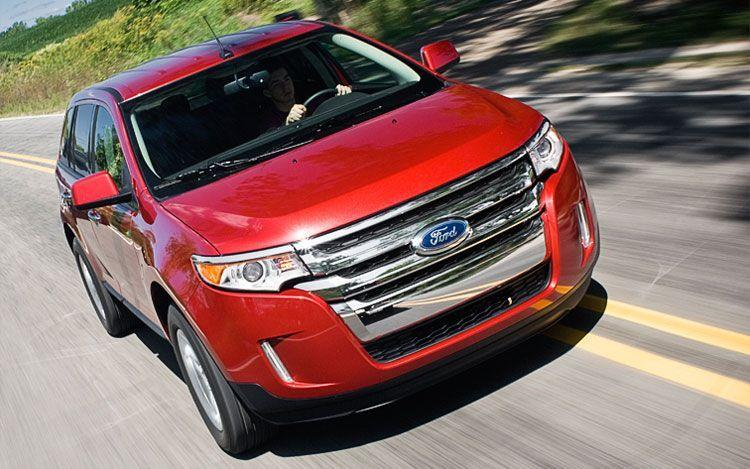car: (49, 17, 602, 457)
